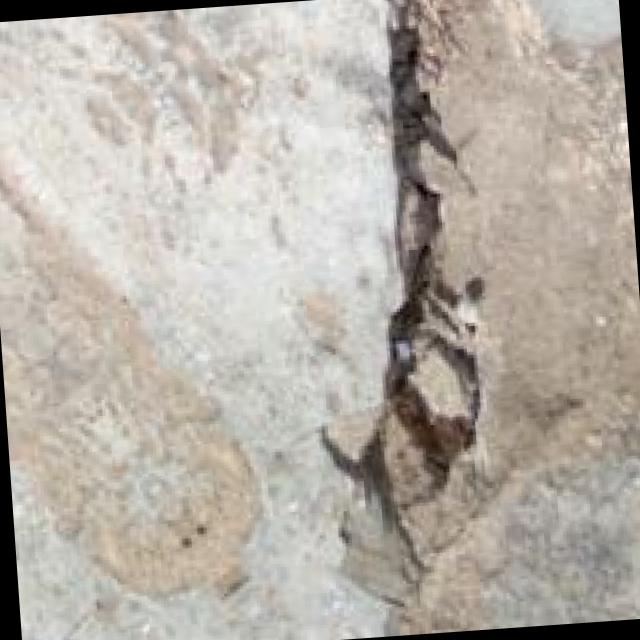crack: (266, 0, 524, 593)
